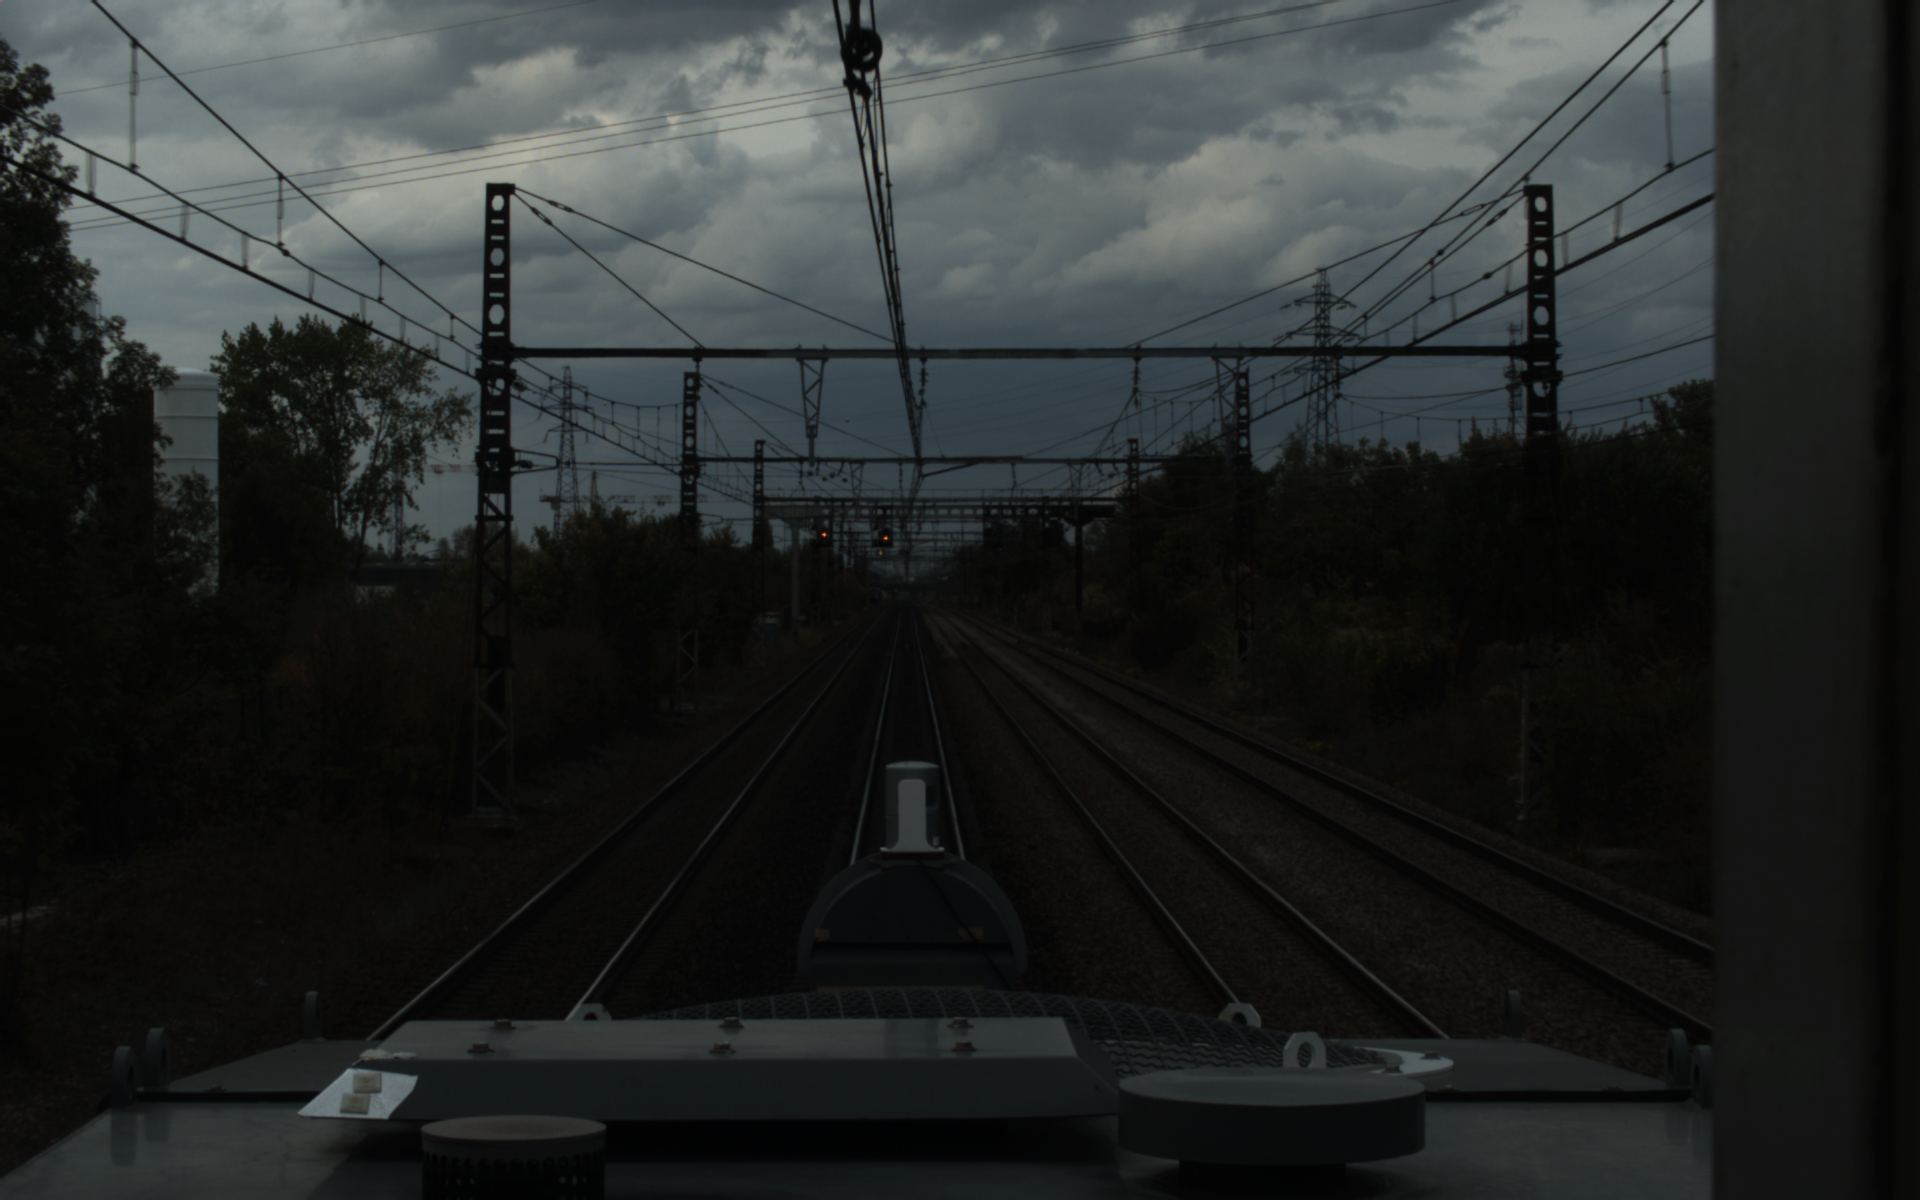Blinking: (878, 525, 892, 545)
Fixed: (816, 525, 829, 543)
